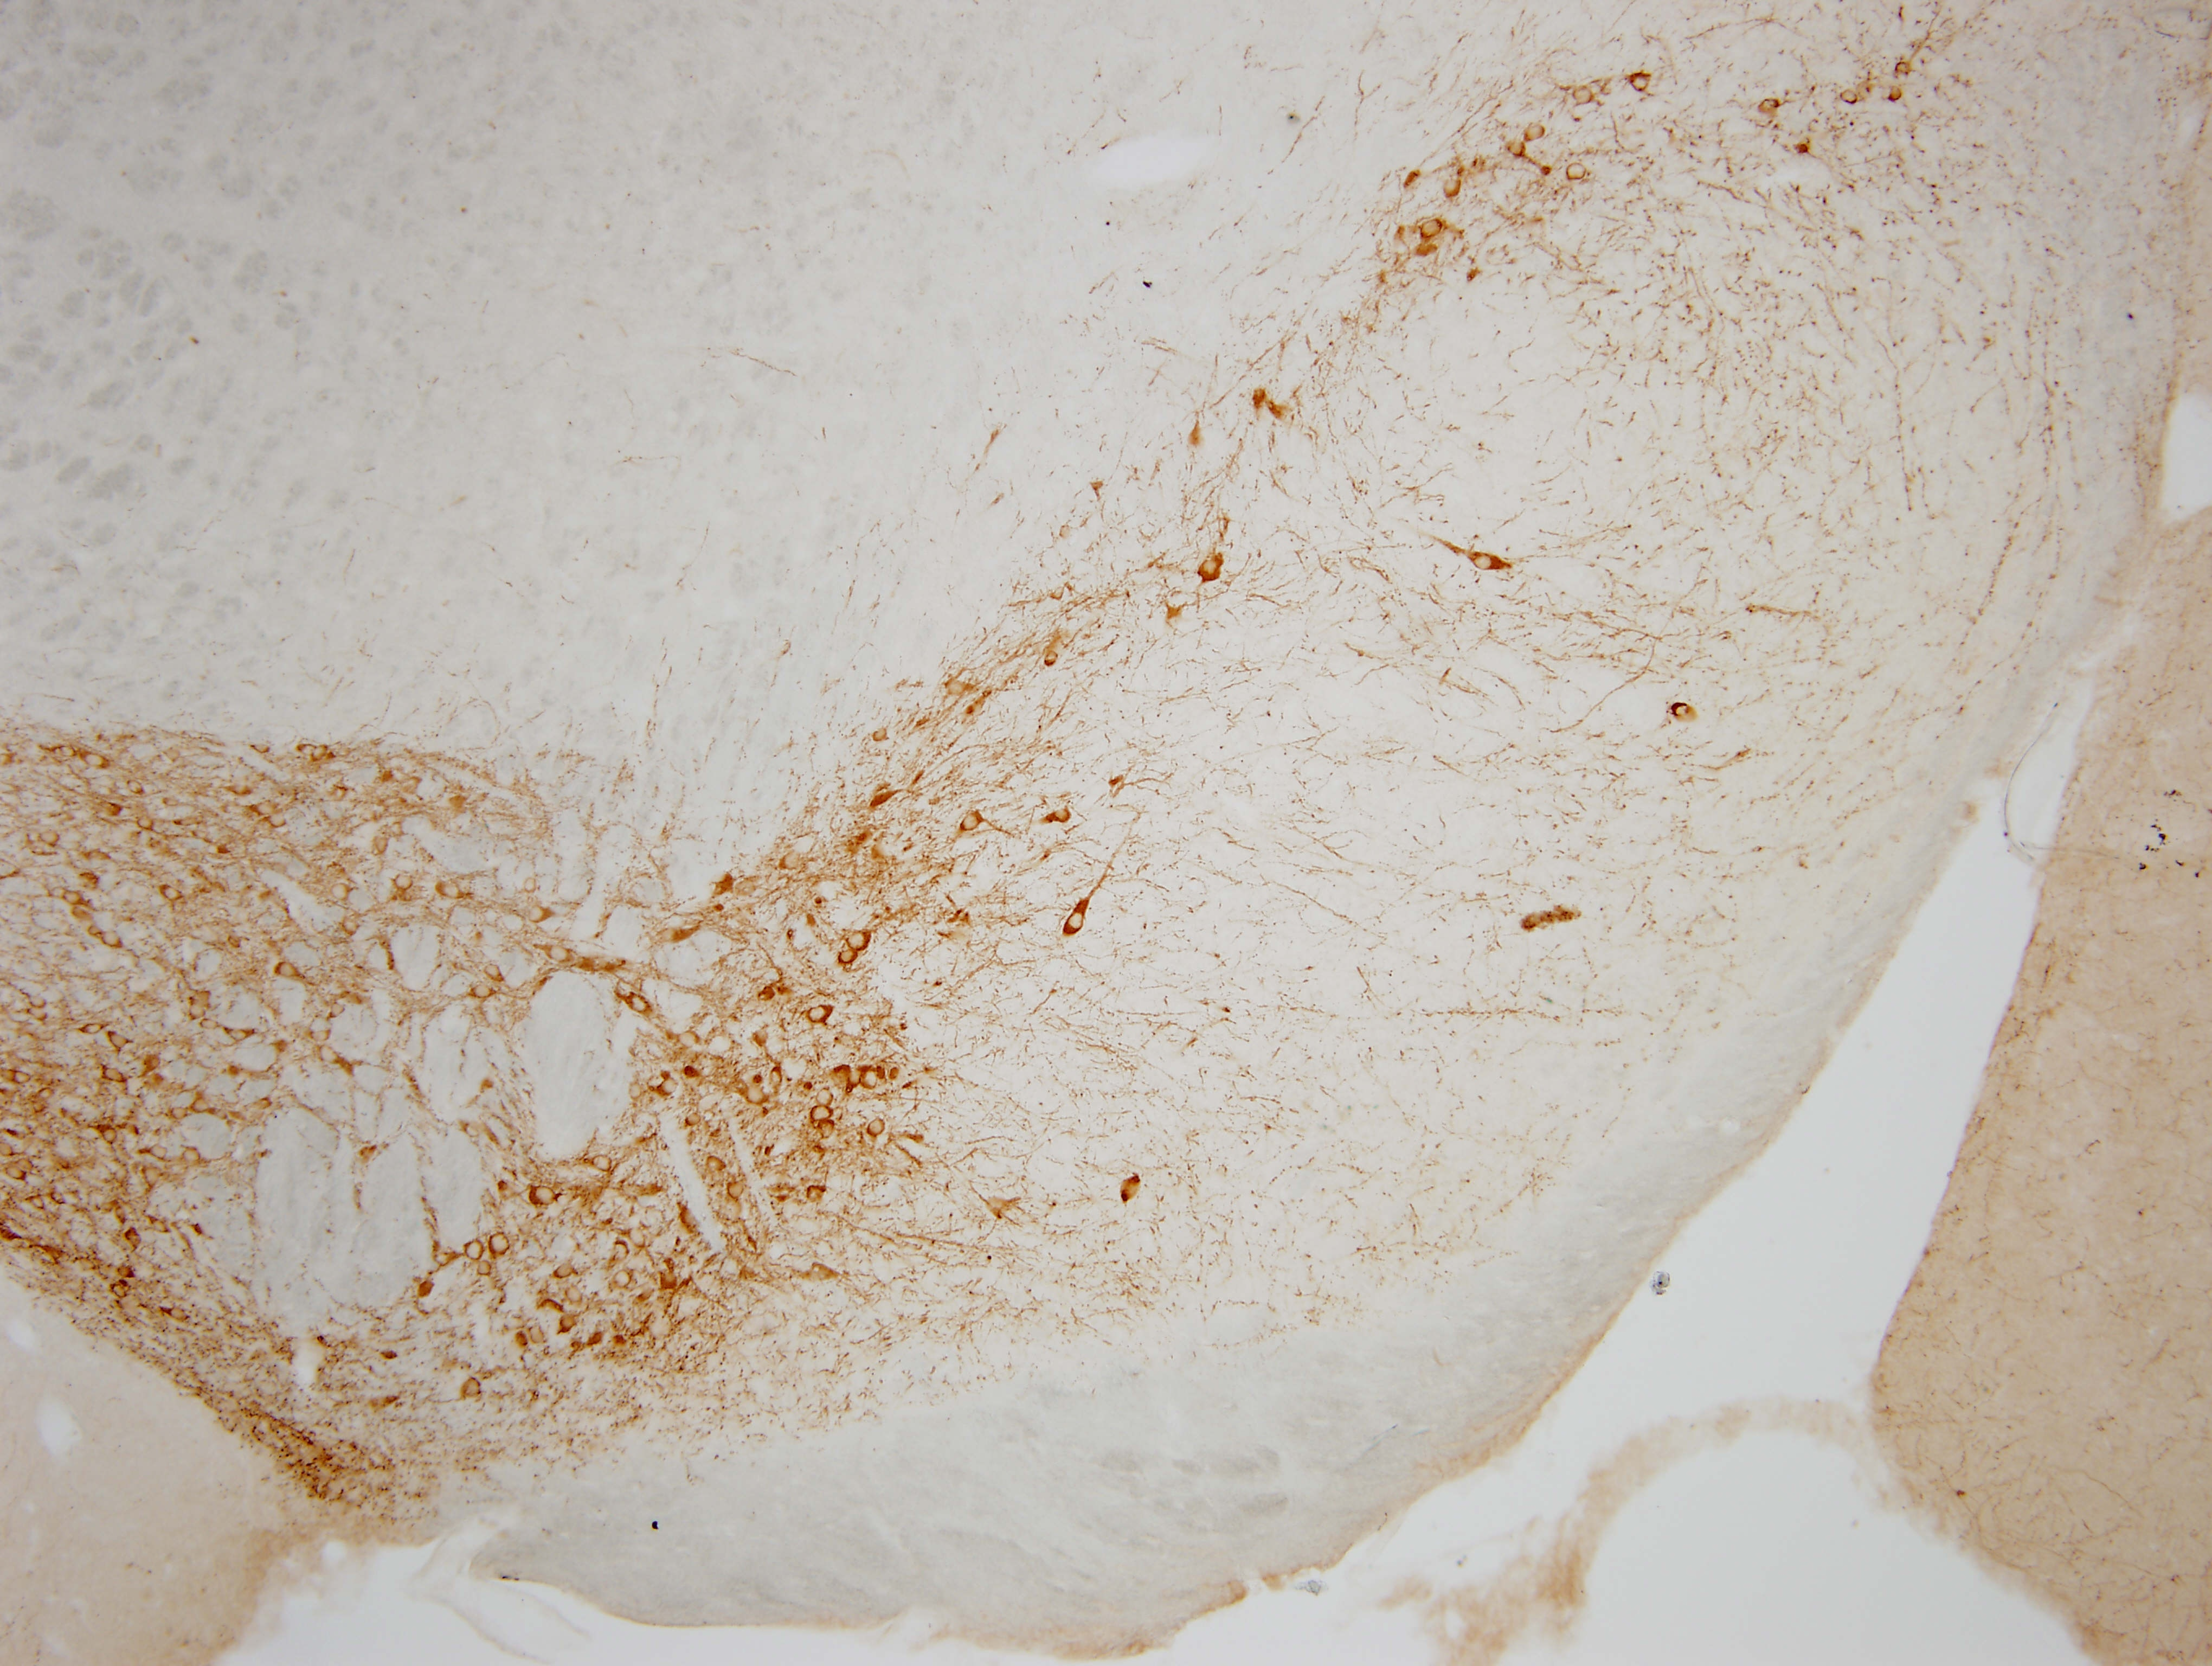neuron: (1196, 553, 1229, 585), (547, 940, 574, 966), (591, 1152, 617, 1178), (610, 1269, 636, 1295), (626, 991, 652, 1017), (65, 884, 91, 910), (657, 1074, 684, 1101), (677, 1027, 703, 1054), (705, 1152, 731, 1178), (722, 1178, 748, 1204), (745, 1083, 771, 1109), (7, 1066, 33, 1092), (768, 1066, 794, 1092), (778, 849, 804, 875), (806, 1003, 832, 1029), (860, 1067, 887, 1094), (866, 1115, 892, 1141), (96, 1125, 122, 1152), (98, 928, 124, 954), (105, 1066, 131, 1092), (105, 1031, 131, 1057), (1063, 912, 1089, 938), (107, 1281, 133, 1307), (121, 1225, 147, 1251), (122, 777, 149, 803), (1418, 217, 1444, 243), (1441, 177, 1467, 203), (145, 1215, 171, 1241), (1472, 550, 1499, 576), (147, 1139, 173, 1166), (1504, 138, 1530, 164), (1525, 121, 1551, 147), (1563, 159, 1589, 186), (157, 795, 184, 821), (159, 884, 185, 910), (161, 746, 187, 772), (1628, 72, 1654, 98), (168, 1102, 194, 1129), (180, 1146, 206, 1172), (1838, 84, 1864, 110), (1883, 82, 1909, 109), (191, 1096, 217, 1122), (192, 1013, 219, 1039), (222, 1022, 248, 1048), (233, 775, 259, 801), (24, 1188, 51, 1215), (24, 989, 51, 1015), (250, 735, 276, 761), (266, 808, 292, 835), (276, 956, 303, 982), (306, 738, 332, 765), (310, 1024, 336, 1050), (327, 999, 353, 1026), (327, 880, 353, 906), (330, 781, 357, 807), (339, 914, 365, 940), (371, 833, 397, 859), (37, 1080, 63, 1106), (386, 816, 413, 842), (390, 871, 416, 898), (38, 823, 65, 849), (435, 880, 462, 906), (456, 1377, 483, 1403), (462, 1237, 488, 1263), (47, 880, 73, 906), (47, 1188, 73, 1215), (481, 961, 507, 987), (486, 1234, 512, 1260), (532, 1185, 558, 1211), (54, 738, 80, 765), (553, 1260, 579, 1285), (556, 1314, 582, 1339), (563, 1283, 589, 1307), (811, 1102, 836, 1129), (82, 749, 107, 775), (82, 1019, 107, 1045), (846, 929, 873, 954), (958, 810, 983, 836), (114, 1262, 140, 1286), (135, 810, 159, 836), (142, 1166, 166, 1192), (1570, 84, 1595, 110), (1668, 698, 1694, 723), (168, 1300, 194, 1325), (1889, 56, 1915, 81), (3, 1160, 28, 1186), (470, 980, 495, 1006), (1757, 96, 1782, 121), (626, 1081, 647, 1101), (684, 1109, 703, 1130), (145, 1054, 164, 1074), (521, 877, 540, 898), (817, 1089, 836, 1108), (839, 949, 859, 968), (871, 726, 890, 746), (1044, 649, 1063, 668), (1051, 807, 1070, 826), (434, 1251, 453, 1270), (476, 1260, 495, 1279), (526, 905, 546, 924)
